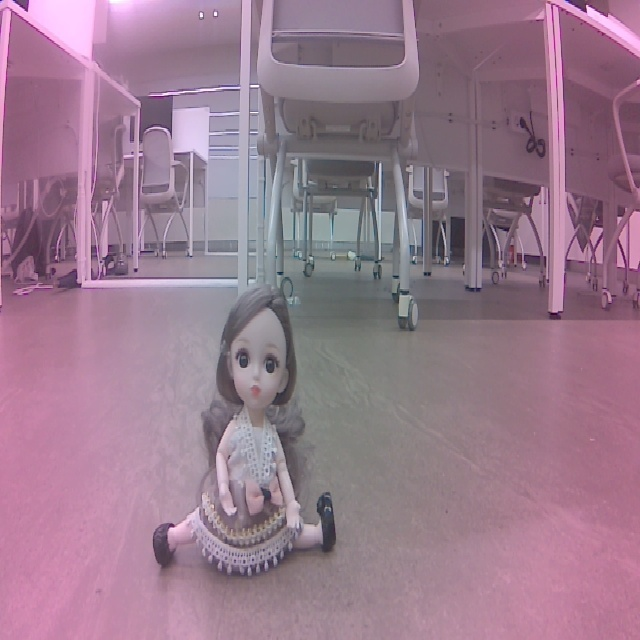장애물: (191, 265, 425, 529)
